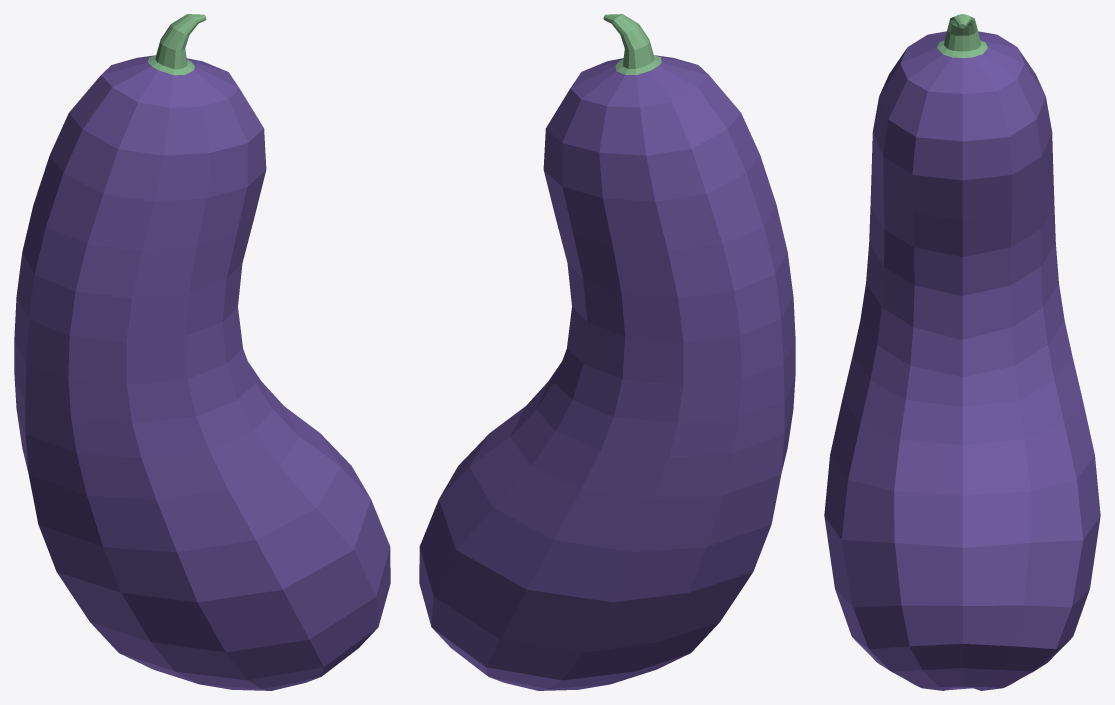
Rendered from eggplant.glb.
3 renders of one model, left to right at view 1: azimuth 30°, elevation 25°; view 2: azimuth 150°, elevation 25°; view 3: azimuth 270°, elevation 25°, orthographic. The views are drawn at different scales.
Parts seen in each view (by area): view 1: eggplant; view 2: eggplant; view 3: eggplant.
Boxes of the visible parts, x1=… form: eggplant: x1=14, y1=14, x2=390, y2=690; eggplant: x1=419, y1=14, x2=795, y2=690; eggplant: x1=824, y1=14, x2=1100, y2=690.
Bounding box in the file's own units: 1.02 × 1.92 × 0.7536.
Materials: 1 (1 with a texture image).
